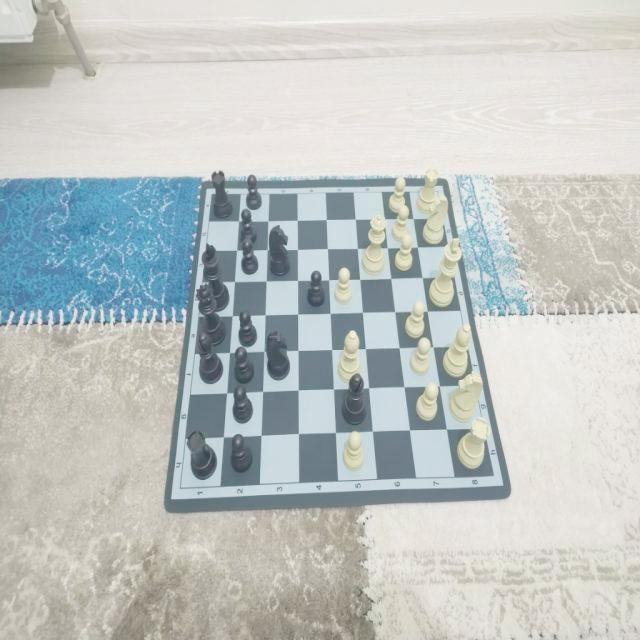chess-table-corners: (173, 481, 186, 496), (486, 470, 500, 482), (432, 187, 442, 197), (208, 190, 215, 200)
